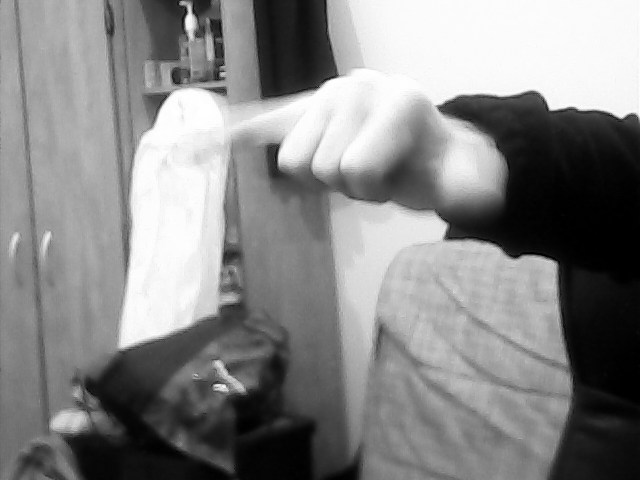aloha: (176, 56, 519, 219)
